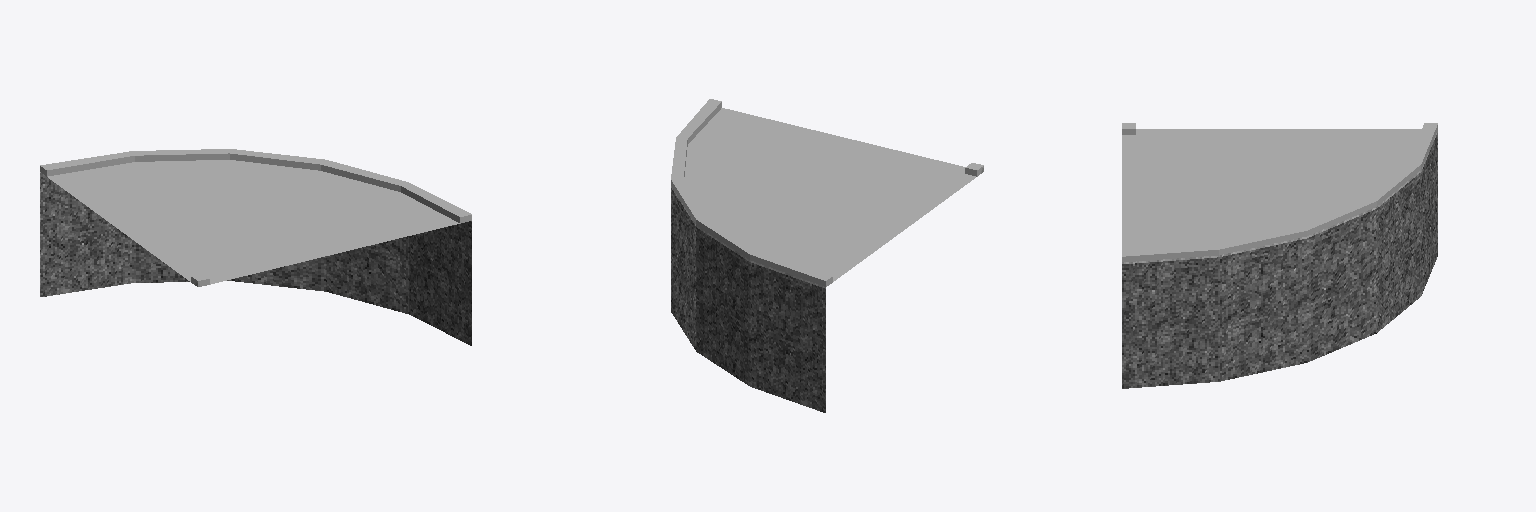
3 views of the same model, side by side, from view 1: azimuth 30°, elevation 25°; view 2: azimuth 150°, elevation 25°; view 3: azimuth 270°, elevation 25° (orthographic).
Visible parts, largest first — view 1: polySurface86; view 2: polySurface86; view 3: polySurface86.
Boxes of the visible parts, <box> form: polySurface86: <box>40,149,471,345</box>; polySurface86: <box>671,99,983,412</box>; polySurface86: <box>1122,123,1437,388</box>.
Bounding box in the file's own units: 197 × 90.53 × 197.
Materials: 1 (1 with a texture image).